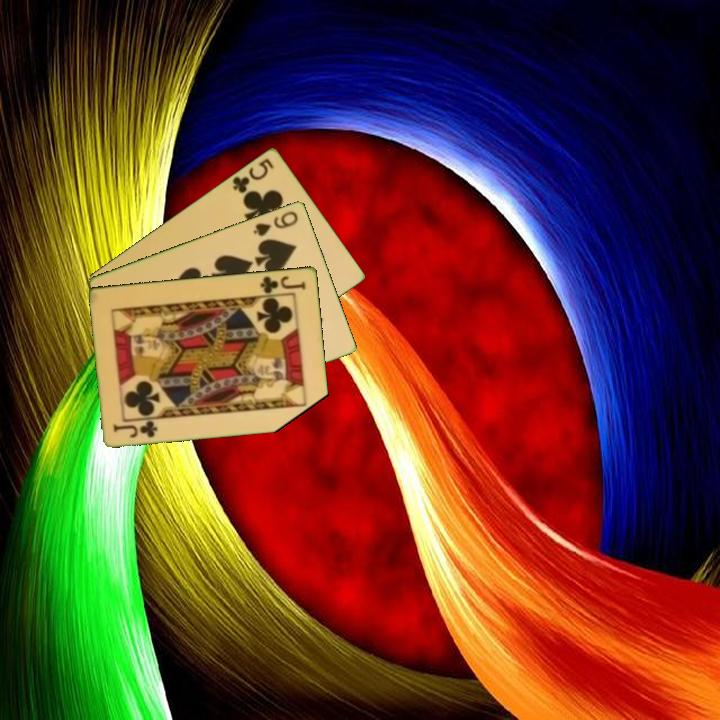5c: (229, 154, 277, 196)
9s: (250, 207, 301, 239)
Jc: (257, 272, 309, 296), (109, 417, 160, 440)
